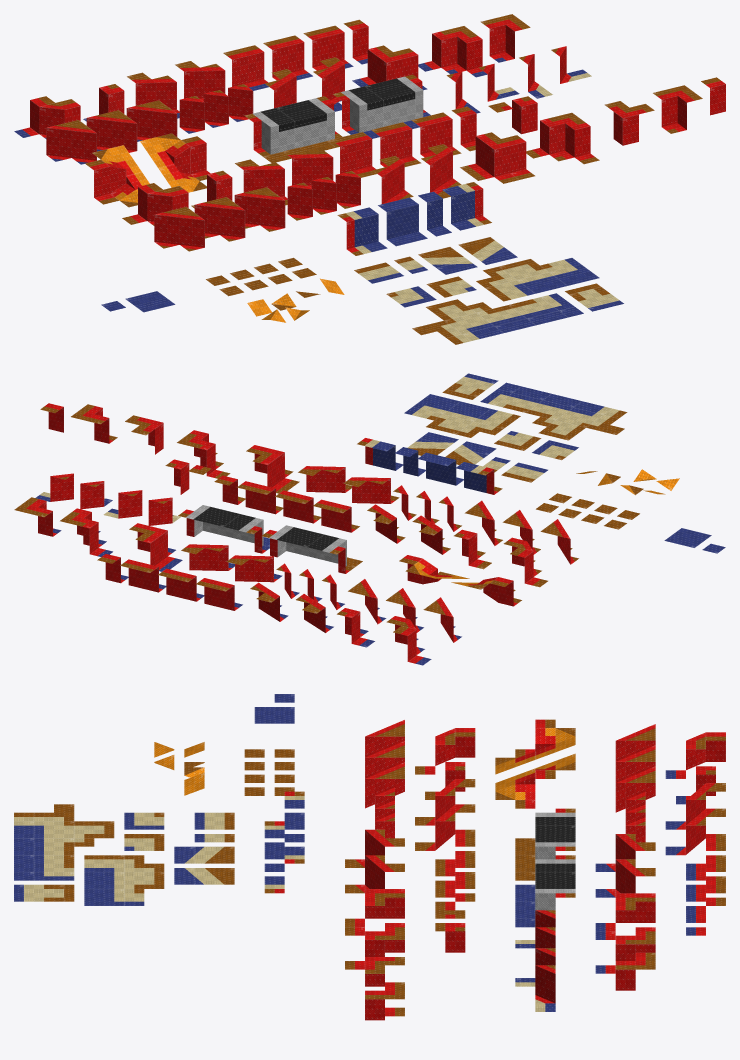
The model's file is placeholder_terrain01.glb.
The picture shows the model from 3 angles, top to bottom: view 1: azimuth 30°, elevation 25°; view 2: azimuth 150°, elevation 25°; view 3: azimuth 270°, elevation 25°; orthographic projection. The views are drawn at different scales.
Visible parts, largest first — view 1: shore08, ovrps01, ovrps02, shore07, ramp02, ramp01, cliff18, cliff19, wcliff19, cliff09, wcliff09, wcliff18 (+47 smaller); view 2: shore08, shore07, ovrps01, ovrps02, cliff18, wcliff18, cliff17, wcliff17, wcliff16, cliff16, wcliff19, cliff19 (+43 smaller); view 3: shore08, shore07, ovrps02, ovrps01, ramp01, ramp02, wcliff18, cliff18, cliff01, wcliff01, cliff19, wcliff19 (+38 smaller).
Part boxes in pixels (left/top/right/bottom): shore08: left=412, top=293, right=583, bottom=344; ovrps01: left=244, top=96, right=342, bottom=162; ovrps02: left=333, top=74, right=430, bottom=138; shore07: left=476, top=258, right=599, bottom=301; ramp02: left=140, top=133, right=210, bottom=192; ramp01: left=85, top=145, right=149, bottom=207; cliff18: left=460, top=132, right=534, bottom=183; cliff19: left=526, top=112, right=599, bottom=164; wcliff19: left=418, top=26, right=487, bottom=77; cliff09: left=154, top=206, right=204, bottom=251; wcliff09: left=46, top=120, right=96, bottom=164; wcliff18: left=352, top=45, right=427, bottom=90; shore08: left=480, top=382, right=627, bottom=440; shore07: left=404, top=394, right=520, bottom=437; ovrps01: left=261, top=525, right=362, bottom=573; ovrps02: left=178, top=505, right=269, bottom=553; cliff18: left=246, top=445, right=299, bottom=493; wcliff18: left=129, top=523, right=182, bottom=571; cliff17: left=298, top=466, right=351, bottom=492; wcliff17: left=181, top=544, right=234, bottom=570; wcliff16: left=226, top=555, right=282, bottom=582; cliff16: left=343, top=477, right=399, bottom=503; wcliff19: left=60, top=508, right=112, bottom=556; cliff19: left=177, top=430, right=230, bottom=478; shore08: left=14, top=804, right=114, bottom=880; shore07: left=84, top=855, right=164, bottom=905; ovrps02: left=515, top=855, right=575, bottom=927; ovrps01: left=515, top=808, right=575, bottom=880; ramp01: left=495, top=719, right=575, bottom=774; ramp02: left=495, top=753, right=575, bottom=808; wcliff18: left=595, top=893, right=655, bottom=939; cliff18: left=345, top=889, right=404, bottom=935; cliff01: left=415, top=728, right=475, bottom=774; wcliff01: left=665, top=732, right=725, bottom=778; cliff19: left=345, top=923, right=404, bottom=969; wcliff19: left=595, top=927, right=655, bottom=973.
Size of the model in its own units: 83 by 3.26 by 71.
7 materials, 7 textured.
